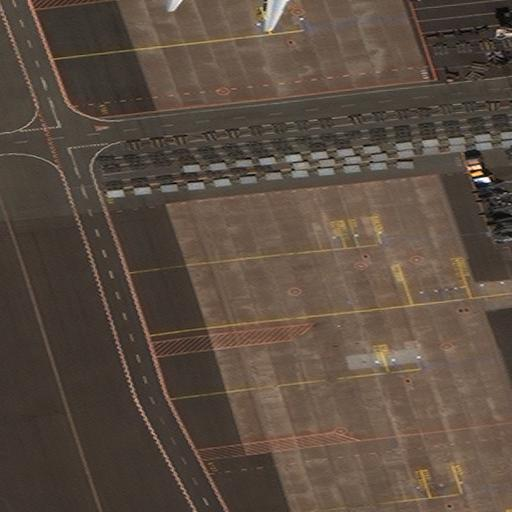Large Civil Transport: (188, 0, 323, 30)
